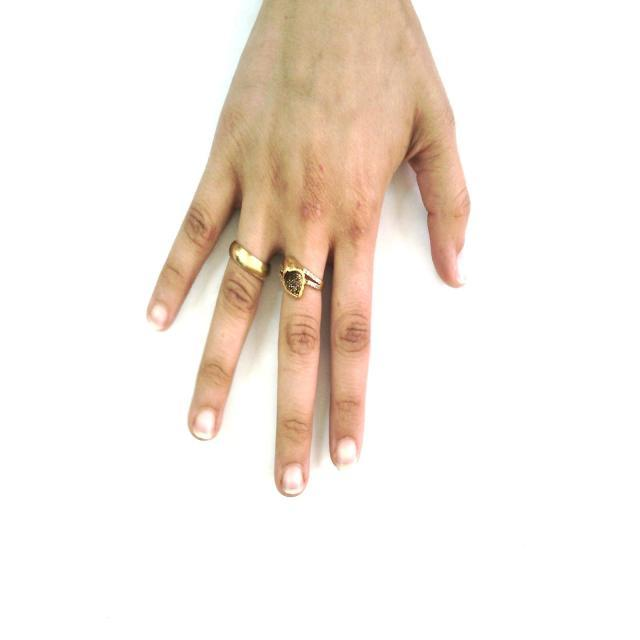Fingernail: (282, 466, 305, 494), (336, 439, 356, 471), (194, 410, 215, 439), (149, 304, 168, 329), (457, 256, 465, 282)
